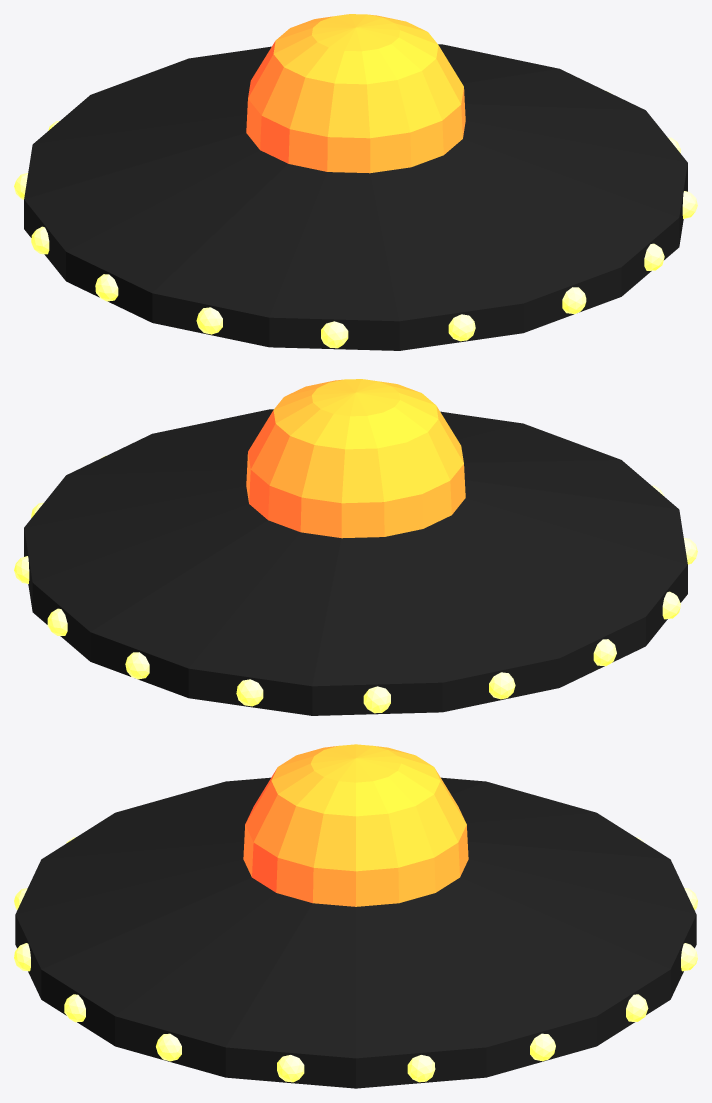
File: Ovni2.fbx
3 renders of one model, top to bottom at view 1: azimuth 30°, elevation 25°; view 2: azimuth 150°, elevation 25°; view 3: azimuth 270°, elevation 25°, orthographic.
Visible parts, largest first — view 1: Cylinder; view 2: Cylinder; view 3: Cylinder.
Part boxes in pixels (x1,y1,x2,y2): Cylinder: (14,14,697,350); Cylinder: (14,379,697,715); Cylinder: (14,744,697,1088).
Size of the model in its own units: 1046 by 408 by 1046.
